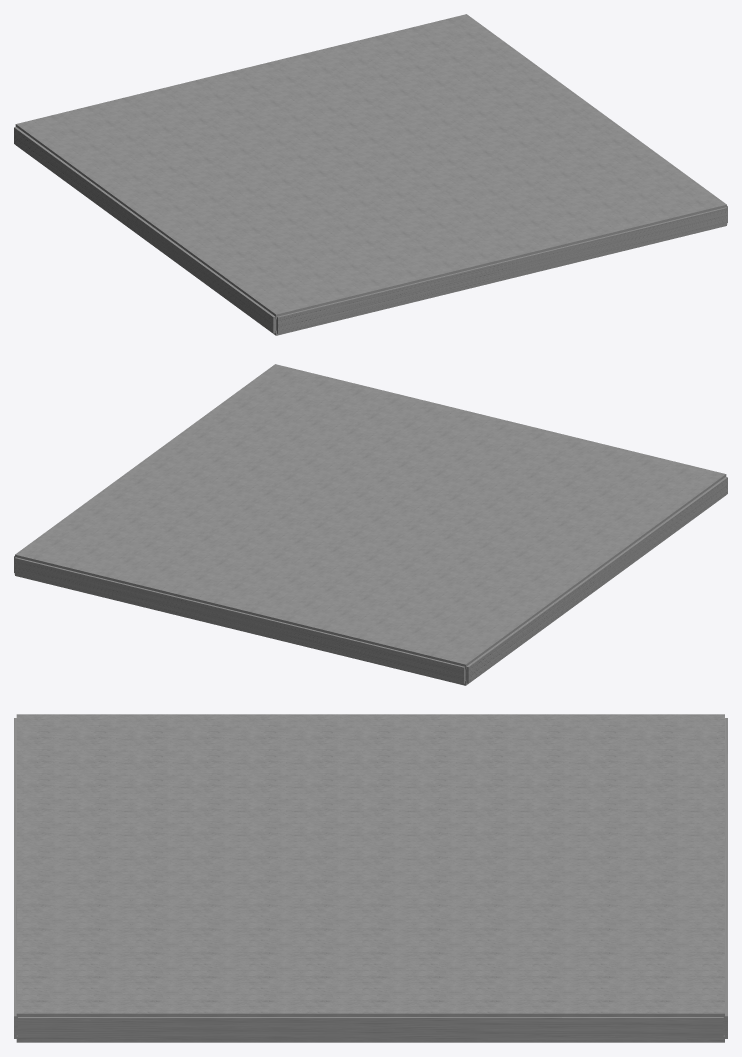
Rendered from horror.glb.
The picture shows the model from 3 angles, top to bottom: view 1: azimuth 30°, elevation 25°; view 2: azimuth 150°, elevation 25°; view 3: azimuth 270°, elevation 25°; orthographic projection. The views are drawn at different scales.
Visible parts, largest first — view 1: Ceiling, WallF, WallL, Floor; view 2: Ceiling, WallB, WallL, Floor; view 3: Ceiling, WallR, Floor, WallB, WallF.
Boxes of the visible parts, x1,y1,x2,y2 form: Ceiling: [15, 14, 726, 319]; WallF: [276, 207, 727, 333]; WallL: [14, 127, 276, 333]; Floor: [16, 145, 726, 335]; Ceiling: [15, 364, 726, 669]; WallB: [14, 557, 465, 683]; WallL: [465, 477, 727, 683]; Floor: [15, 495, 725, 685]; Ceiling: [16, 714, 724, 1019]; WallR: [18, 1017, 723, 1040]; Floor: [16, 1035, 724, 1042]; WallB: [723, 718, 727, 1038]; WallF: [14, 718, 17, 1038].
Size of the model in its own units: 202 by 9 by 202.
Materials: 4 (4 with a texture image).
